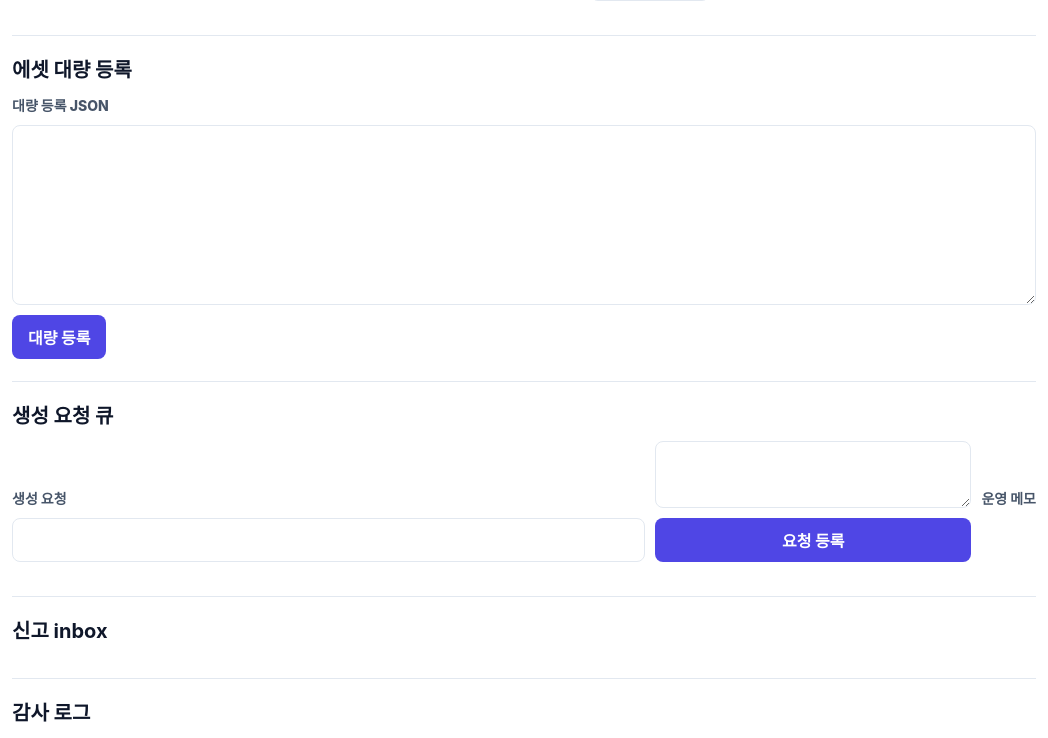
Test case: AdminDashboard › creates a generation request from the admin queue form
(page scrolled)
In the text box labelled "생성 요청": (813, 474) [655,441,971,508], type "상품 상세페이지 히어로 이미지"
(page scrolled)
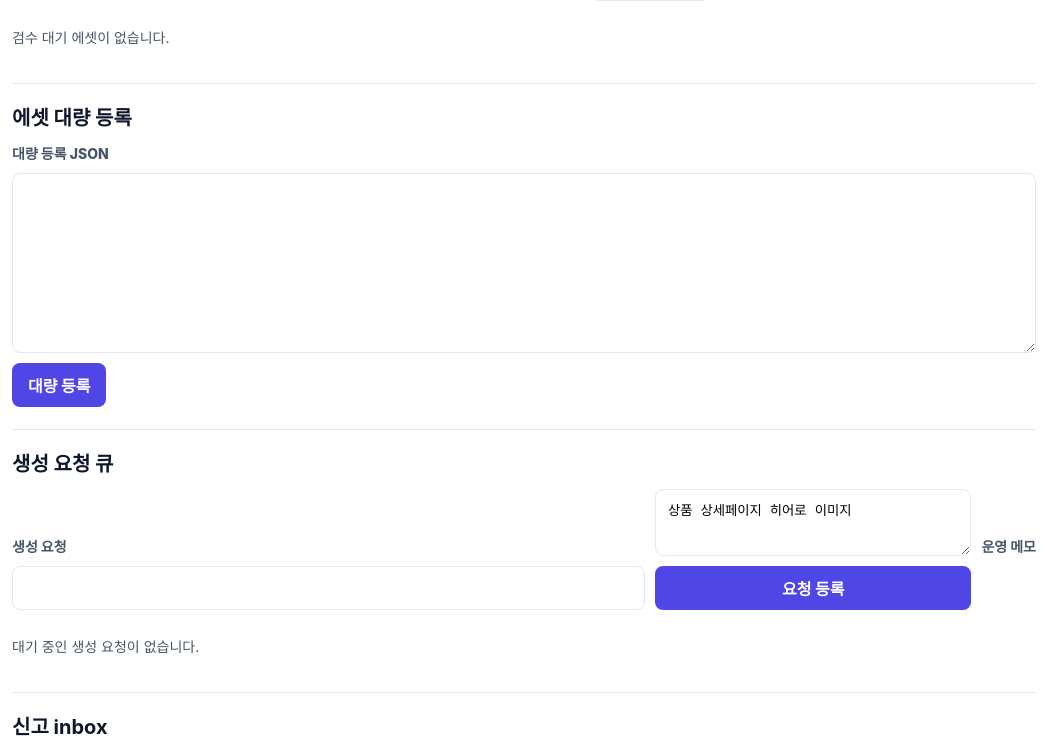
In the field labelled "운영 메모": (328, 588) [12,566,645,610], type "우선순위 높음"
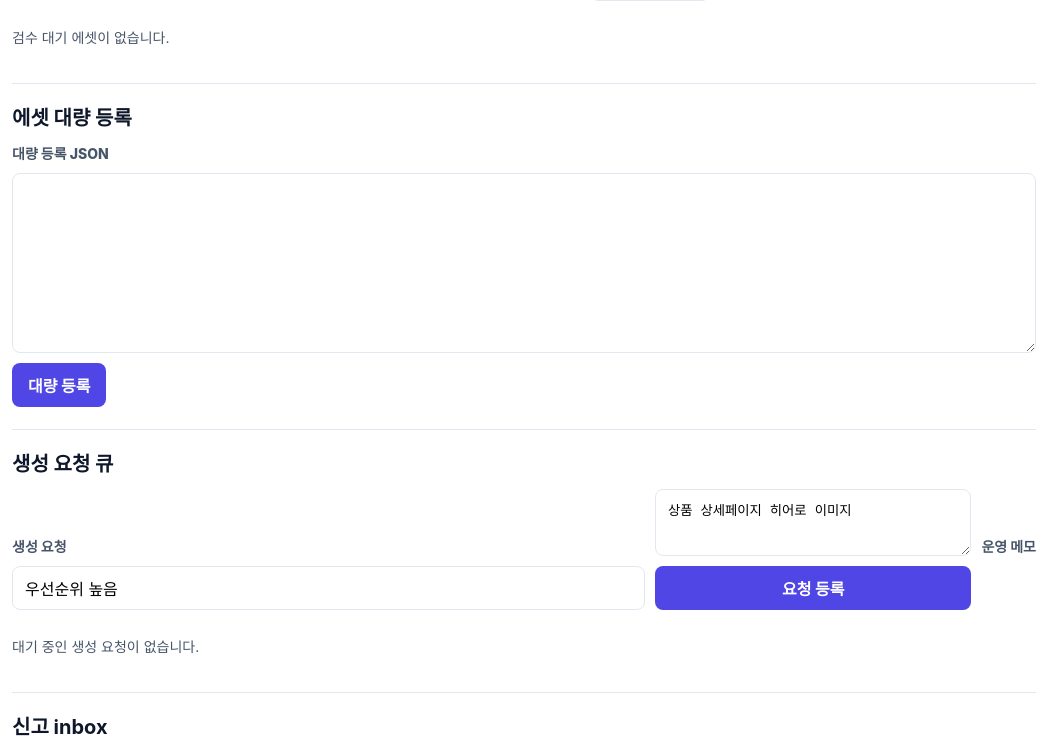
Click the button "요청 등록": (813, 588) [655,566,971,610]
(page scrolled)
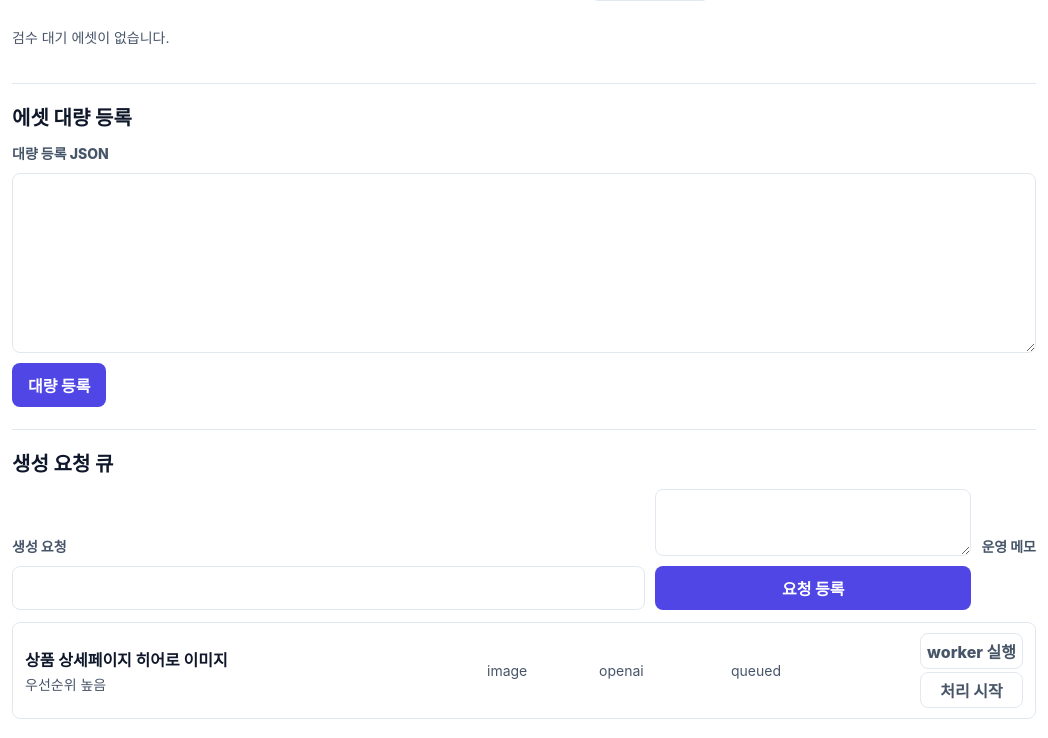
Result: the text "상품 상세페이지 히어로 이미지" is shown at [25,650,228,670]
